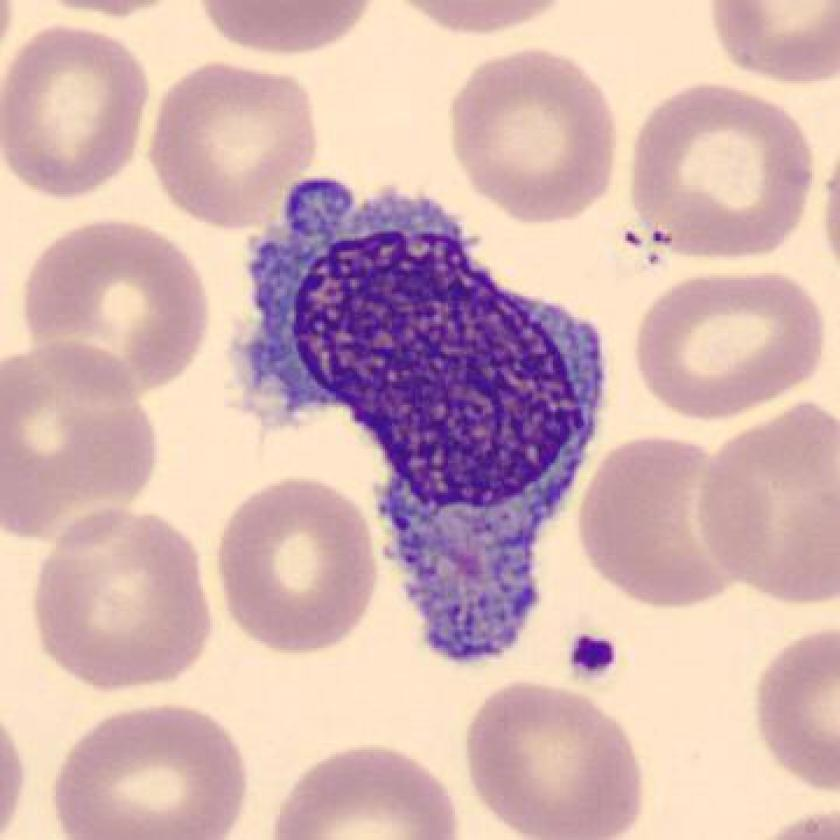monocyte: (207, 154, 620, 677)
